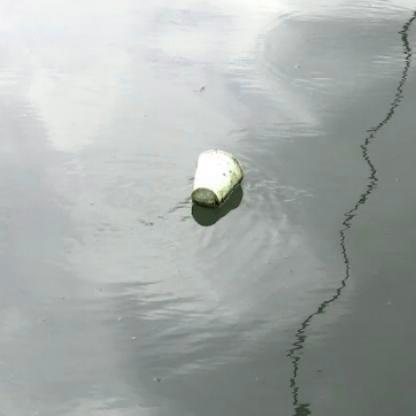Plastic: (188, 145, 244, 210)
